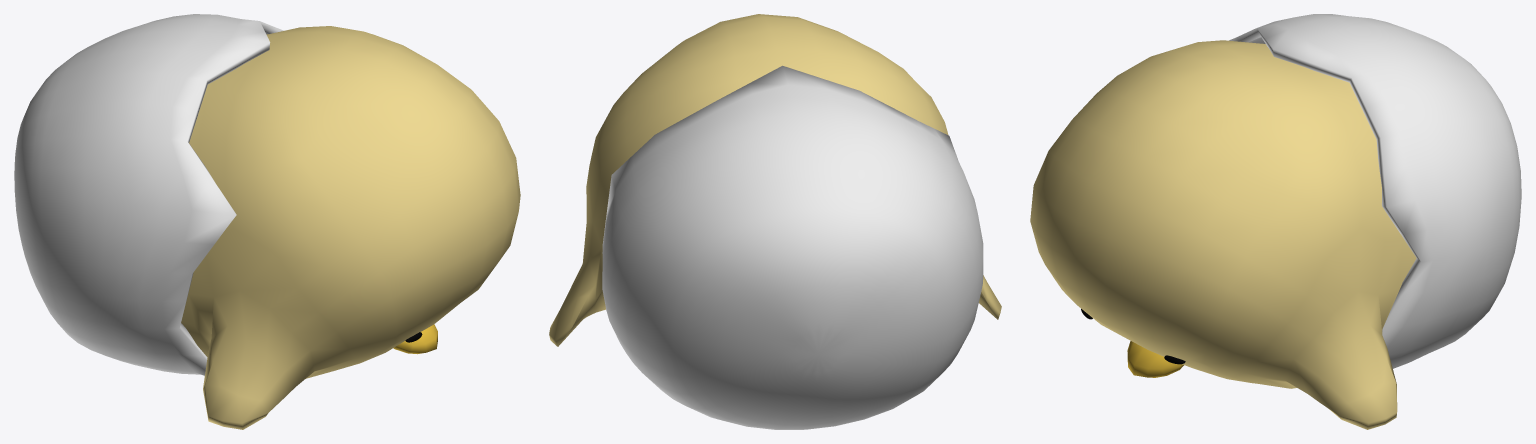
Rendered from mini-chick.gltf.
3 views of the same model, side by side, from view 1: azimuth 30°, elevation 25°; view 2: azimuth 150°, elevation 25°; view 3: azimuth 270°, elevation 25° (orthographic). The views are drawn at different scales.
Parts seen in each view (by area): view 1: Body.002, eGg, Beak.001; view 2: eGg, Body.002; view 3: Body.002, eGg, Beak.001.
Boxes of the visible parts, x1,y1,x2,y2 form: Body.002: (181, 26, 520, 429); eGg: (14, 14, 283, 375); Beak.001: (393, 324, 437, 354); eGg: (602, 65, 983, 429); Body.002: (549, 14, 1001, 346); Body.002: (1030, 40, 1416, 429); eGg: (1229, 14, 1521, 368); Beak.001: (1127, 341, 1183, 377).
Bounding box in the file's own units: 1.48 × 1.09 × 1.53.
